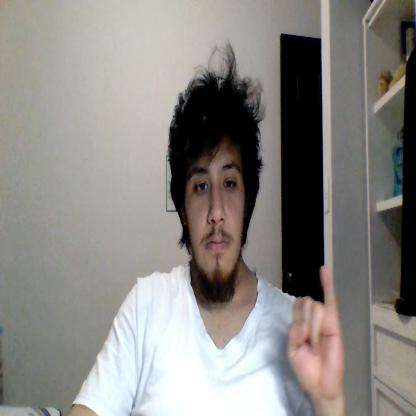I: (286, 265, 344, 397)
